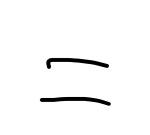eqv: (40, 58, 111, 106)
